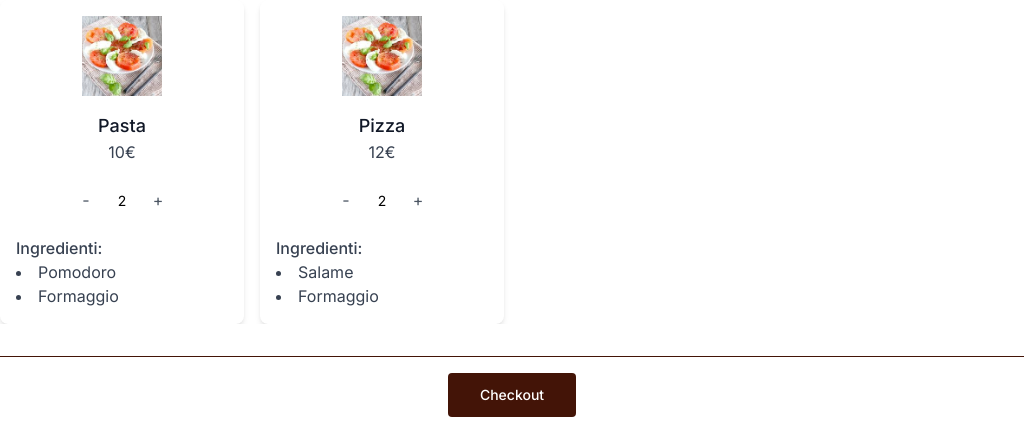
Test: Verifica il funzionamento frontend del componente Menu Table › Verifica di diminuzione quantità
Step 1. Click the button with test id "decrease_2" → (346, 200), box [326, 180, 366, 220]
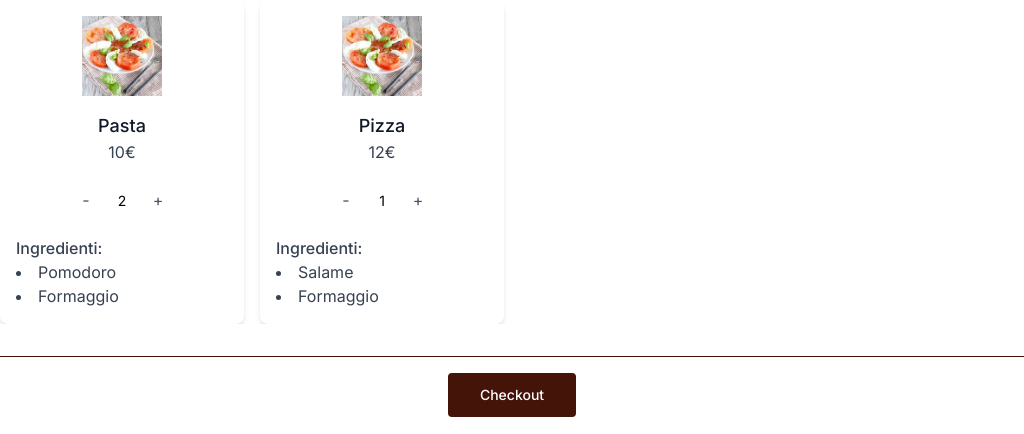
Expected: the field with test id "display_2" holds "1", [366, 180, 398, 220]
